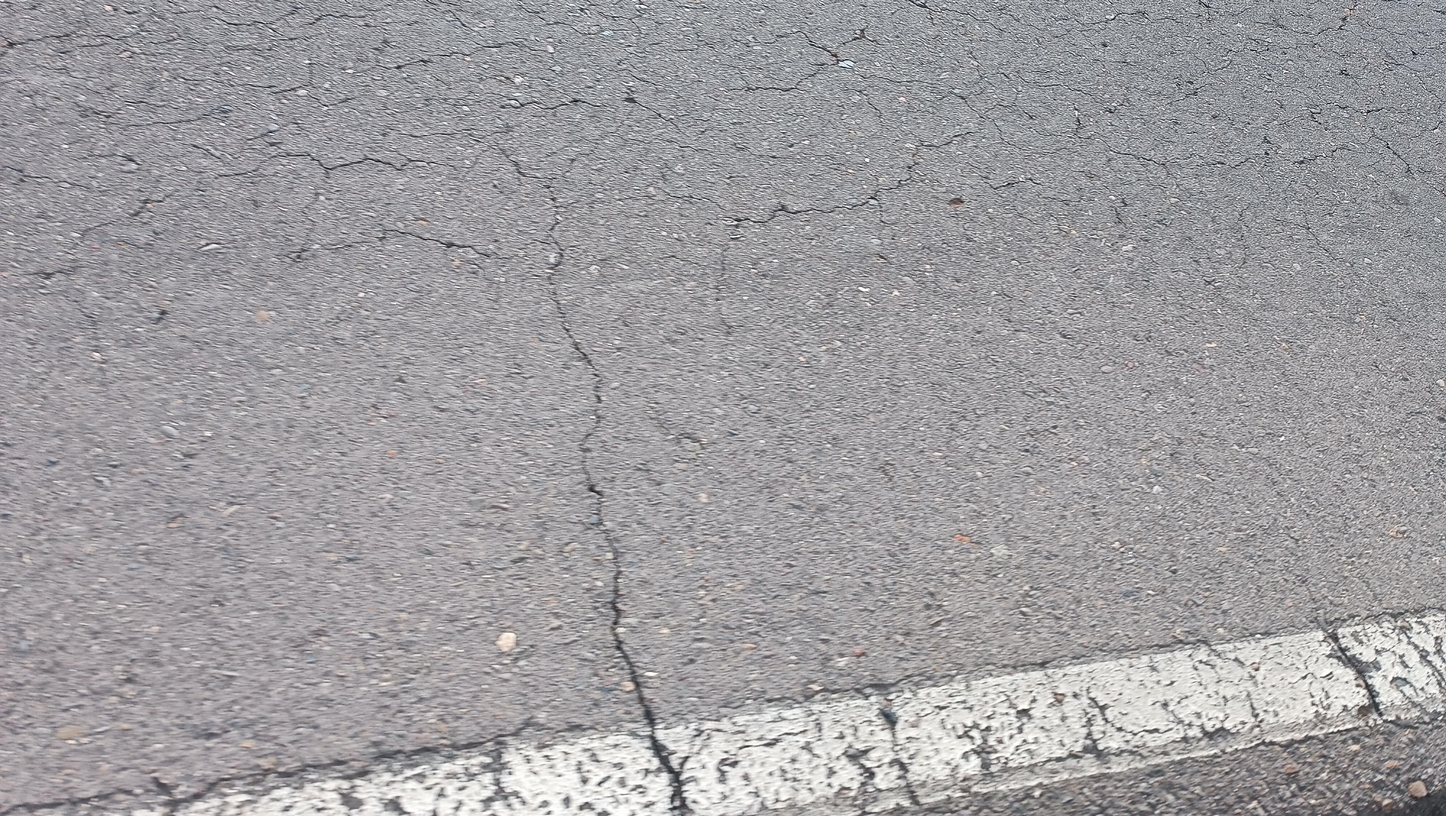GRIETA: (547, 279, 690, 812)
PIEL DE COCODRILO: (0, 0, 1446, 311)
